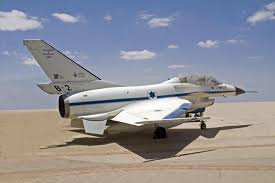fighter: (23, 35, 248, 137)
